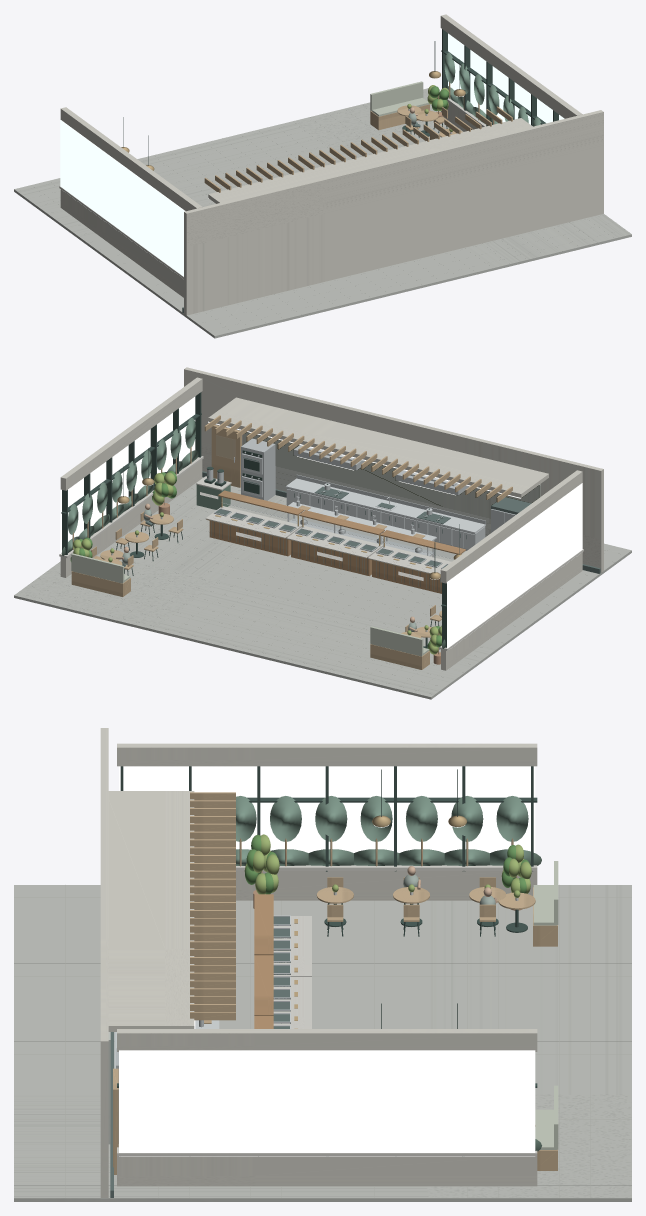
Rendered from hall.glb.
3 renders of one model, top to bottom at view 1: azimuth 30°, elevation 25°; view 2: azimuth 150°, elevation 25°; view 3: azimuth 270°, elevation 25°, orthographic. The views are drawn at different scales.
Visible parts, largest first — view 1: Mineral plaster, Limestone, Campus daylight, Natural oak furniture, Charcoal enamel, Deep sage timber, Linen upholstery, Warm quartz; view 2: Limestone, Mineral plaster, Campus daylight, Natural oak furniture, Satin stainless steel, Quarter-sawn oak, Glazed ivory tile, Brushed steel, Warm quartz, Charcoal enamel, Deep sage timber, Blackened steel (+4 smaller); view 3: Limestone, Campus daylight, Mineral plaster, Natural oak furniture, Deep sage timber, Warm quartz, Grout, Charcoal enamel, Quarter-sawn oak, Linen upholstery, Blackened steel, Leaf highlights (+2 smaller).
Boxes of the visible parts, left/top/right/bottom form: Mineral plaster: left=60, top=14, right=603, bottom=315; Limestone: left=14, top=88, right=631, bottom=338; Campus daylight: left=60, top=33, right=564, bottom=276; Natural oak furniture: left=204, top=81, right=512, bottom=192; Charcoal enamel: left=123, top=29, right=558, bottom=165; Deep sage timber: left=444, top=52, right=541, bottom=126; Linen upholstery: left=370, top=81, right=429, bottom=116; Warm quartz: left=59, top=97, right=486, bottom=278; Limestone: left=14, top=477, right=631, bottom=699; Mineral plaster: left=60, top=367, right=603, bottom=670; Campus daylight: left=60, top=396, right=582, bottom=648; Natural oak furniture: left=71, top=415, right=512, bottom=669; Satin stainless steel: left=214, top=447, right=485, bottom=568; Quarter-sawn oak: left=209, top=490, right=465, bottom=593; Glazed ivory tile: left=243, top=432, right=540, bottom=536; Brushed steel: left=207, top=438, right=515, bottom=556; Warm quartz: left=59, top=456, right=583, bottom=650; Charcoal enamel: left=61, top=392, right=459, bottom=649; Deep sage timber: left=61, top=417, right=445, bottom=648; Blackened steel: left=122, top=457, right=600, bottom=591; Limestone: left=14, top=885, right=631, bottom=1201; Campus daylight: left=119, top=766, right=535, bottom=1156; Mineral plaster: left=100, top=728, right=537, bottom=1197; Natural oak furniture: left=113, top=792, right=557, bottom=1174; Deep sage timber: left=236, top=796, right=541, bottom=1151; Warm quartz: left=117, top=865, right=537, bottom=1156; Grout: left=14, top=885, right=631, bottom=1198; Charcoal enamel: left=117, top=766, right=537, bottom=1156; Quarter-sawn oak: left=254, top=894, right=273, bottom=1028; Linen upholstery: left=533, top=861, right=558, bottom=1149; Blackened steel: left=110, top=916, right=290, bottom=1197; Leaf highlights: left=244, top=834, right=531, bottom=897.
Bounding box in the file's own units: 18 × 4.3 × 15.
Materials: 27 (11 with a texture image).
